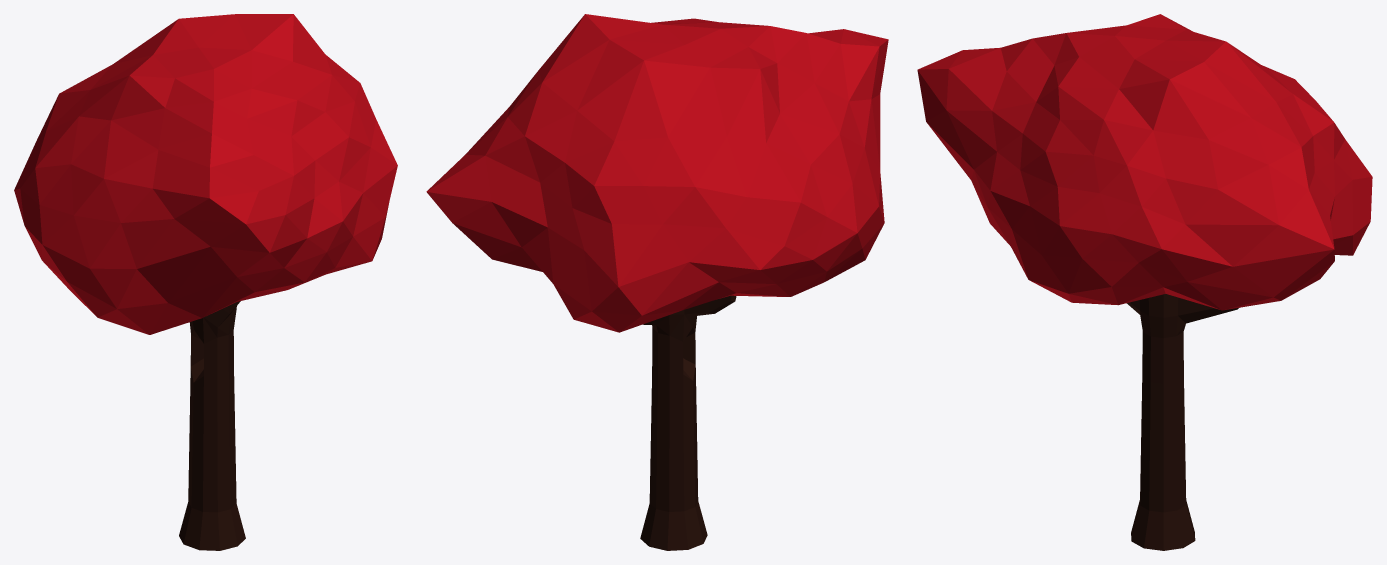
Rendered from t3-purple.obj.
3 renders of one model, left to right at view 1: azimuth 30°, elevation 25°; view 2: azimuth 150°, elevation 25°; view 3: azimuth 270°, elevation 25°, orthographic.
Visible parts, largest first — view 1: t3-purple_Cylinder.029; view 2: t3-purple_Cylinder.029; view 3: t3-purple_Cylinder.029.
Part boxes in pixels (x1,y1,x2,y2): t3-purple_Cylinder.029: (14,14,397,550); t3-purple_Cylinder.029: (426,14,888,550); t3-purple_Cylinder.029: (917,14,1372,550).
Bounding box in the file's own units: 6.51 × 9.23 × 7.64.
